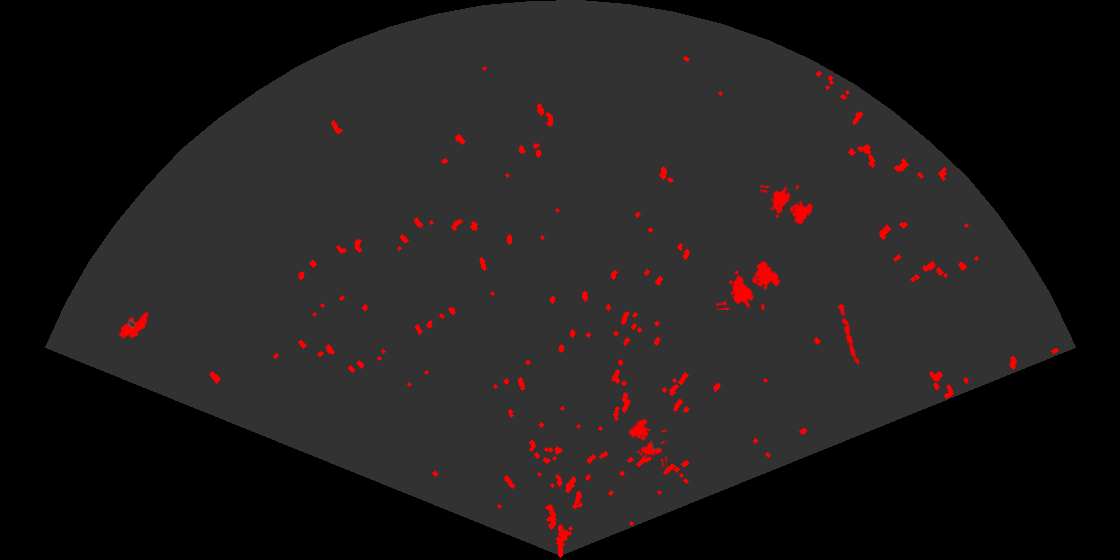AUV: (117, 310, 150, 340)
cage: (716, 259, 782, 310), (760, 185, 815, 226), (627, 417, 667, 467)
chain: (836, 302, 861, 366)
